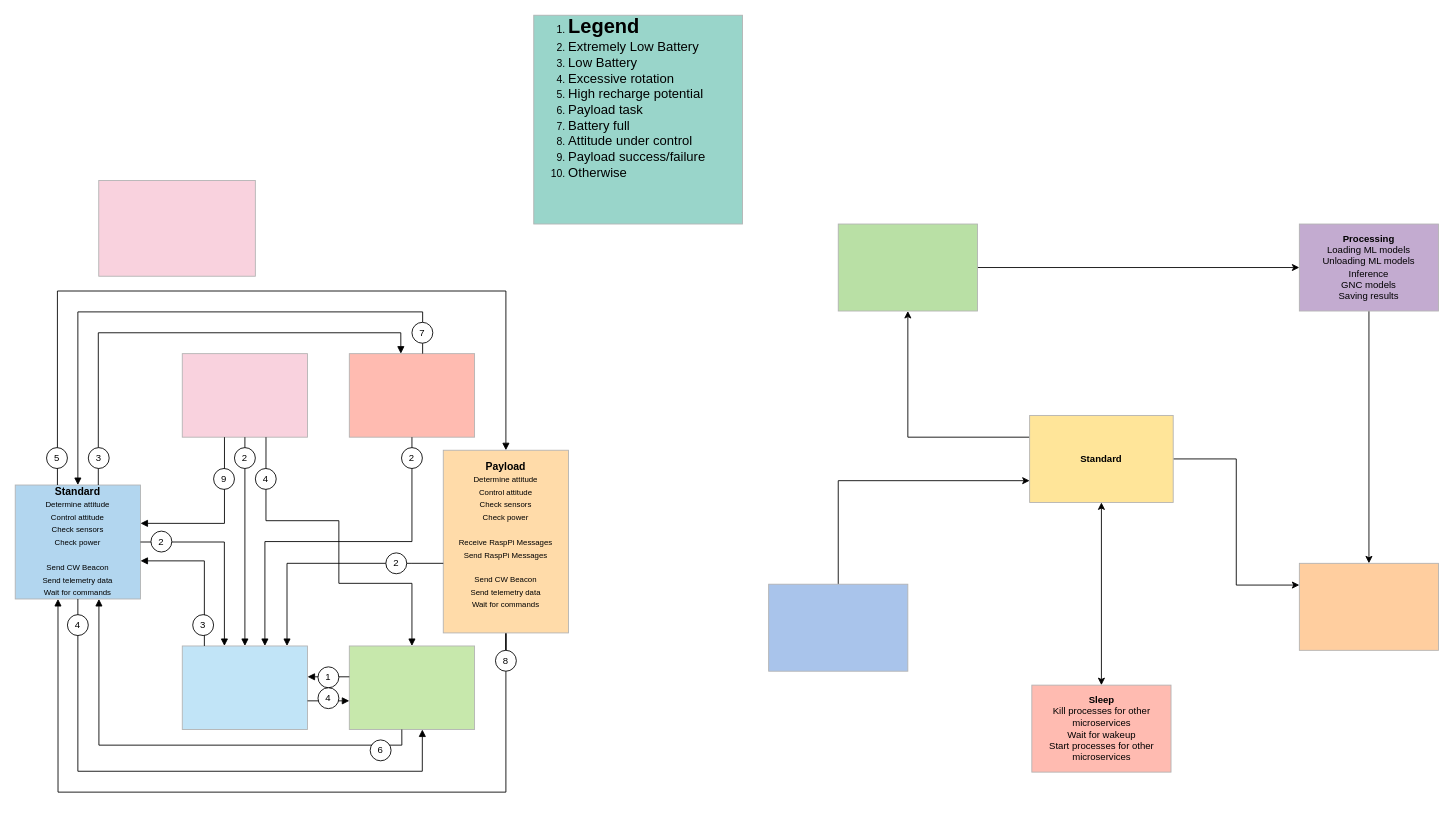
Image size: 1454x814. Some labels were removed from this diagram. Here are the shapes that lost their labels. From the top down, the centre of each, then its label:
At pixel 176 228: "Transmit (radio blocking)".
At pixel 907 267: "Imaging Taking image Saving result Broadcasting result Switching camera".
At pixel 244 395: "Antenna, Solar Panel Deployment".
At pixel 411 395: "De-tumbling".
At pixel 1368 606: "Transmit Send packets Dissassemble images Wait for response?".
At pixel 838 627: "Receive Receive packets Assemble messages Save model data Notify PiCubed".
At pixel 244 687: "Low Power".
At pixel 411 687: "Active Recharge Read sensors Determine attitude Control attitude Send beacon".
